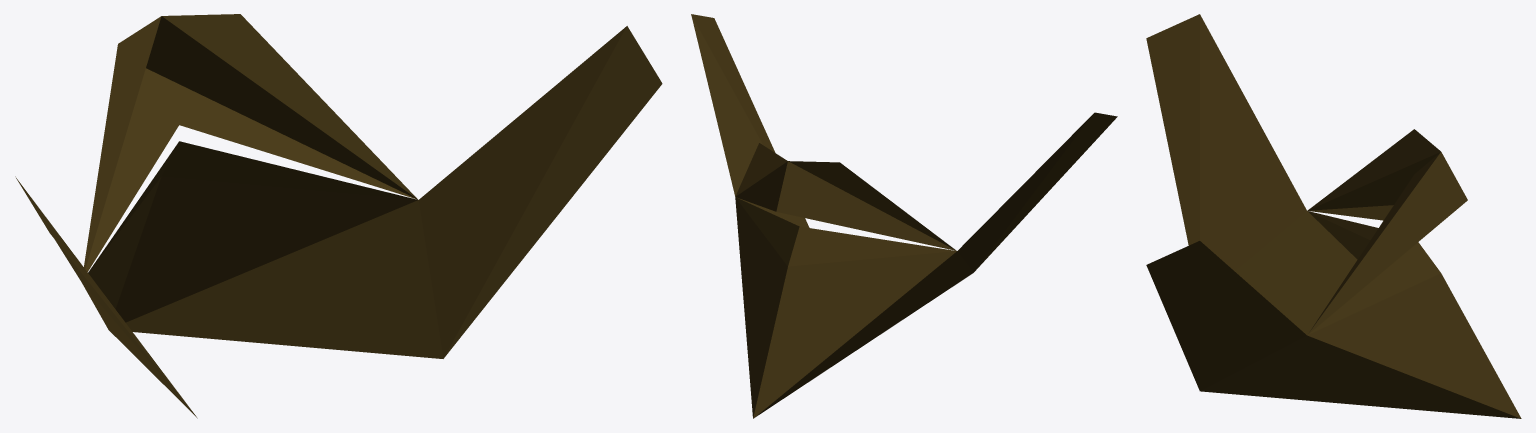
File: npc_chat_zahwa_1.obj
The picture shows the model from 3 angles, left to right: view 1: azimuth 30°, elevation 25°; view 2: azimuth 150°, elevation 25°; view 3: azimuth 270°, elevation 25°; orthographic projection. The views are drawn at different scales.
Size of the model in its own units: 0.625 by 0.375 by 0.4375.
